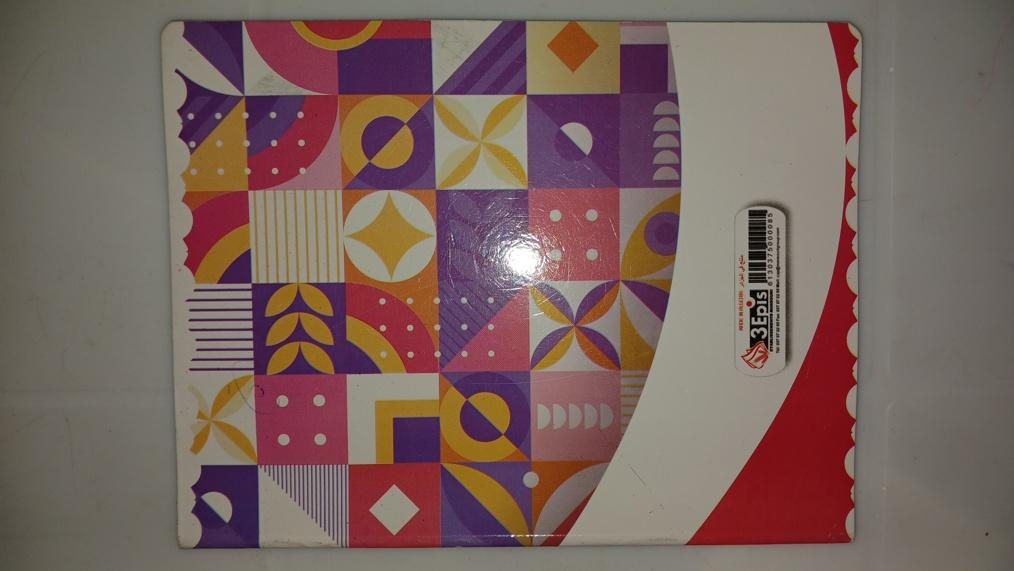notebook: (173, 22, 863, 548)
